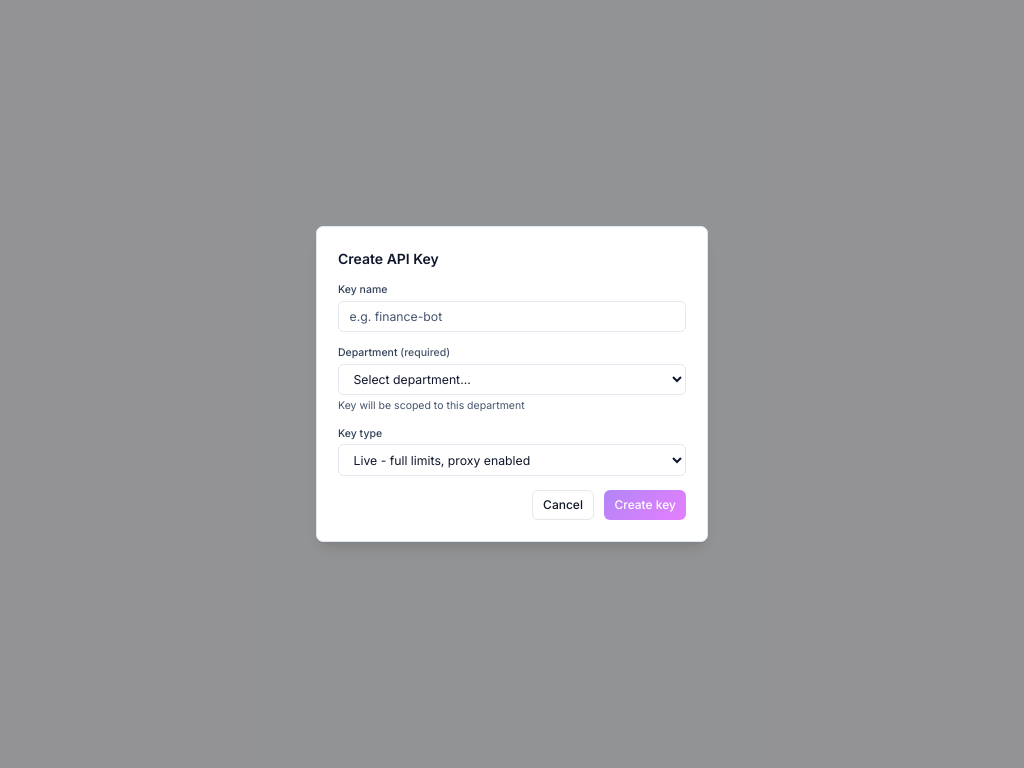
CreateKeyModal validation › disables Create until both a name and a department are set
expect the button "Create key" is disabled: met, box x1=604 y1=490 x2=686 y2=520
Type "My key" into the field with placeholder "e.g. finance-bot".
click(512, 317); type("My key")  # box x1=338 y1=301 x2=686 y2=332
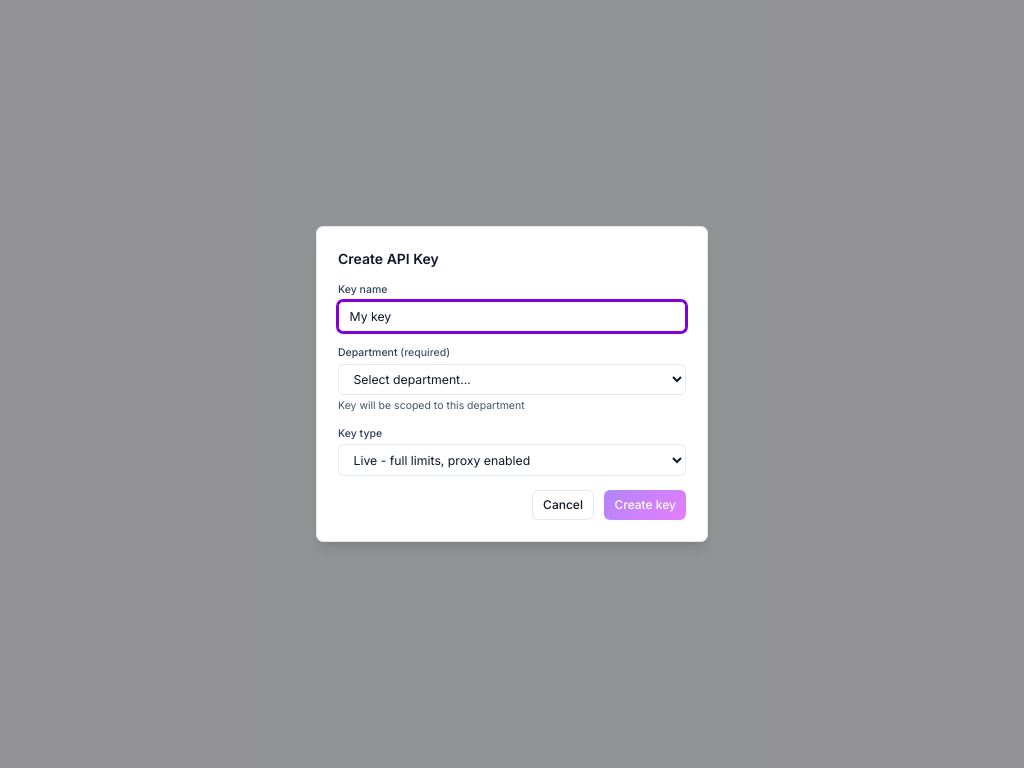
expect the button "Create key" is disabled: met, box x1=604 y1=490 x2=686 y2=520
Note: First combobox is the department selector.
Select "Engineering" in the dropdown below "(required)" at (512,380), box x1=338 y1=364 x2=686 y2=395
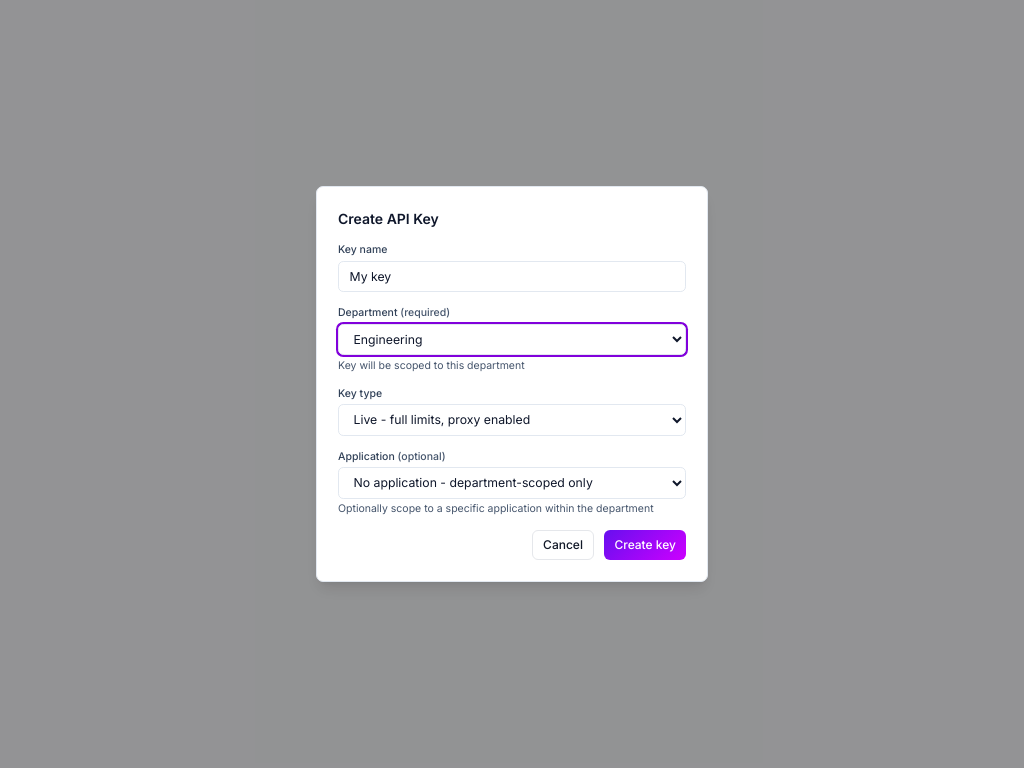
expect the button "Create key" is enabled: met, box x1=604 y1=530 x2=686 y2=560
